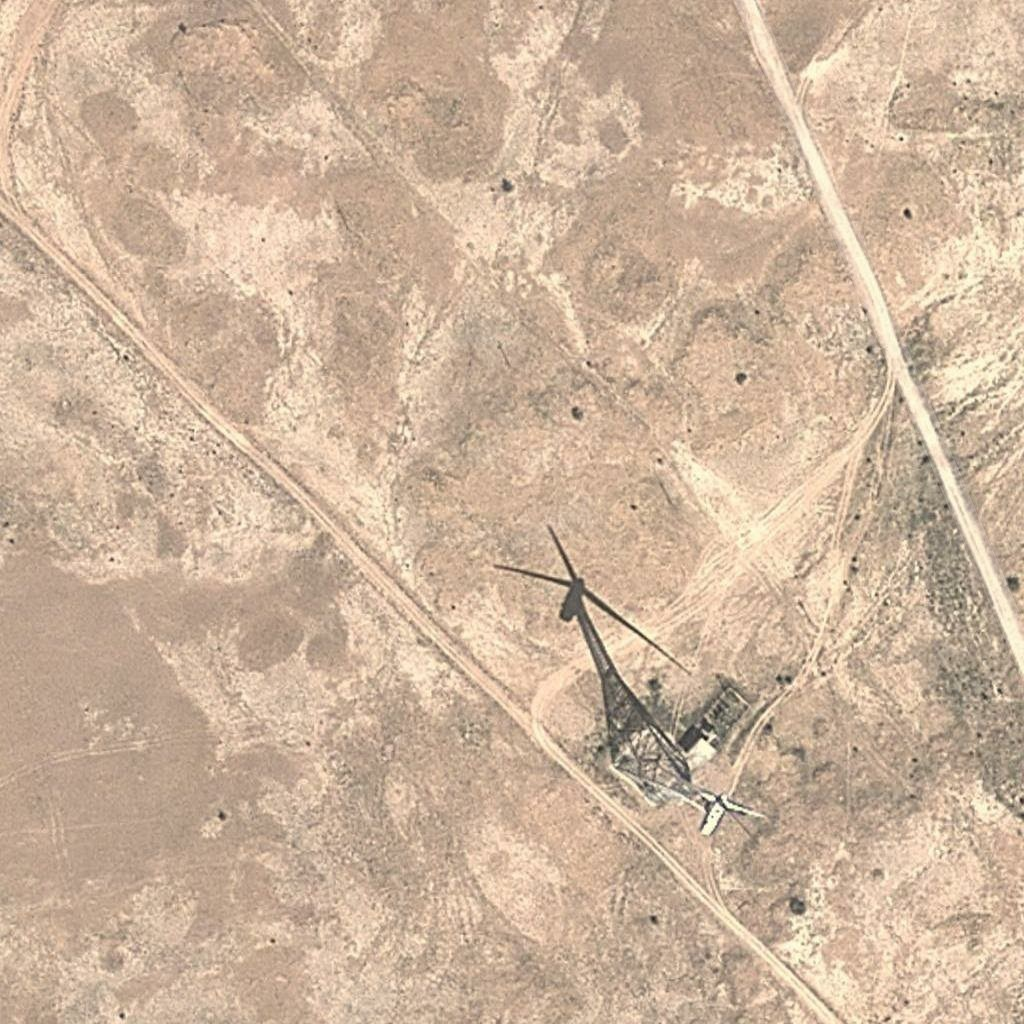Windmill: (493, 523, 659, 726)
